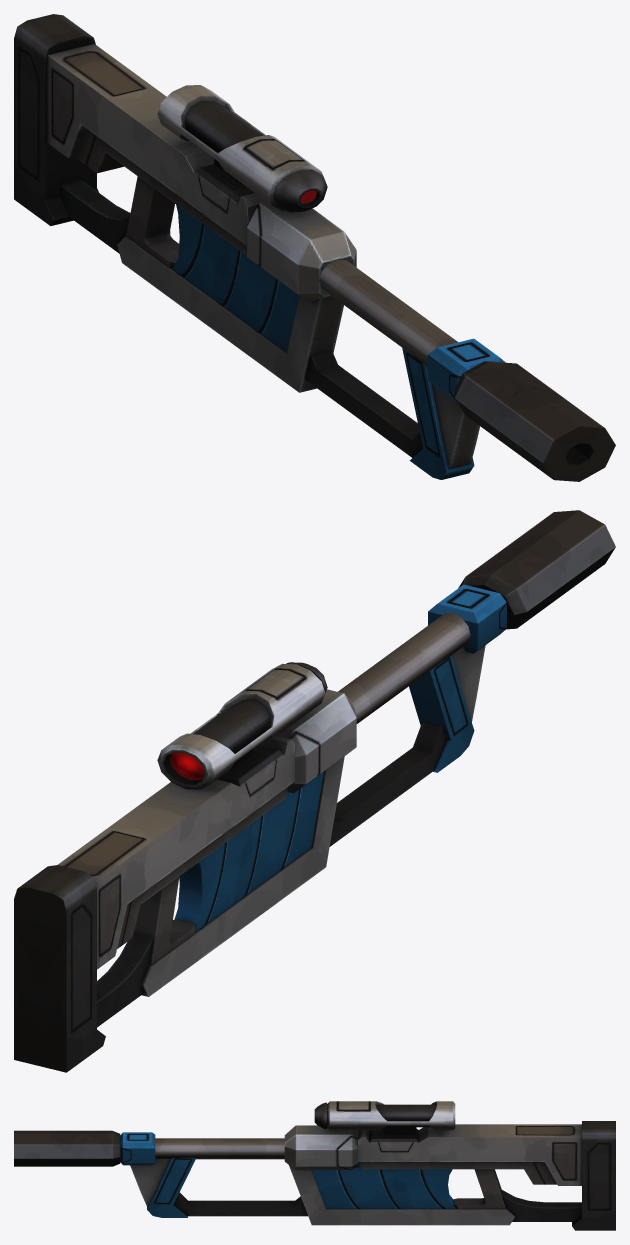
File: Smuggler_Sniper_TRUE_FBX.fbx
3 renders of one model, top to bottom at view 1: azimuth 30°, elevation 25°; view 2: azimuth 150°, elevation 25°; view 3: azimuth 270°, elevation 25°, orthographic. The views are drawn at different scales.
Parts seen in each view (by area): view 1: Sniper; view 2: Sniper; view 3: Sniper.
Part boxes in pixels (<box>): Sniper: <box>14,14,615,481</box>; Sniper: <box>14,510,615,1072</box>; Sniper: <box>14,1101,615,1230</box>.
Bounding box in the file's own units: 0.1111 × 1.42 × 0.312.
